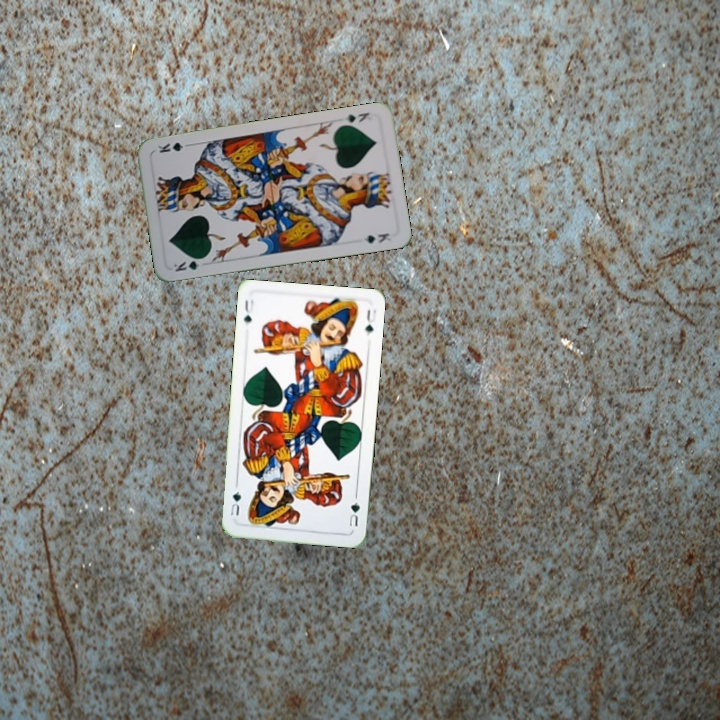GK: (170, 254, 208, 274), (340, 108, 372, 125)
GU: (344, 498, 362, 529), (240, 295, 256, 326)
